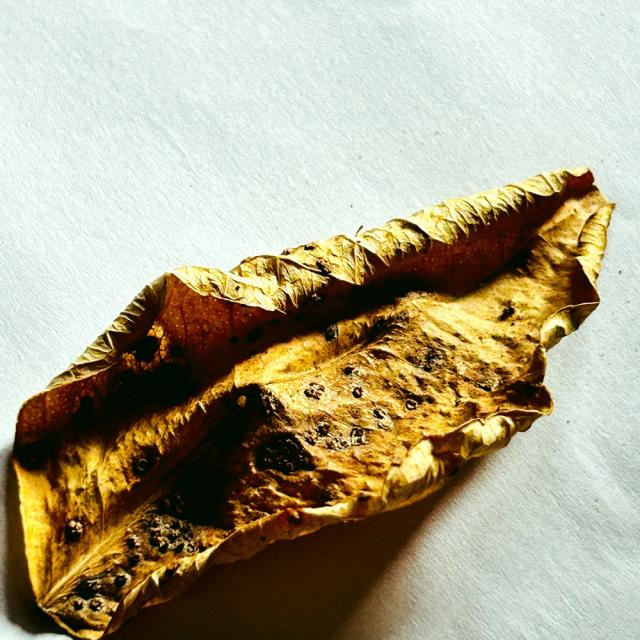DryLeaf_Lemon: (13, 168, 614, 639)
